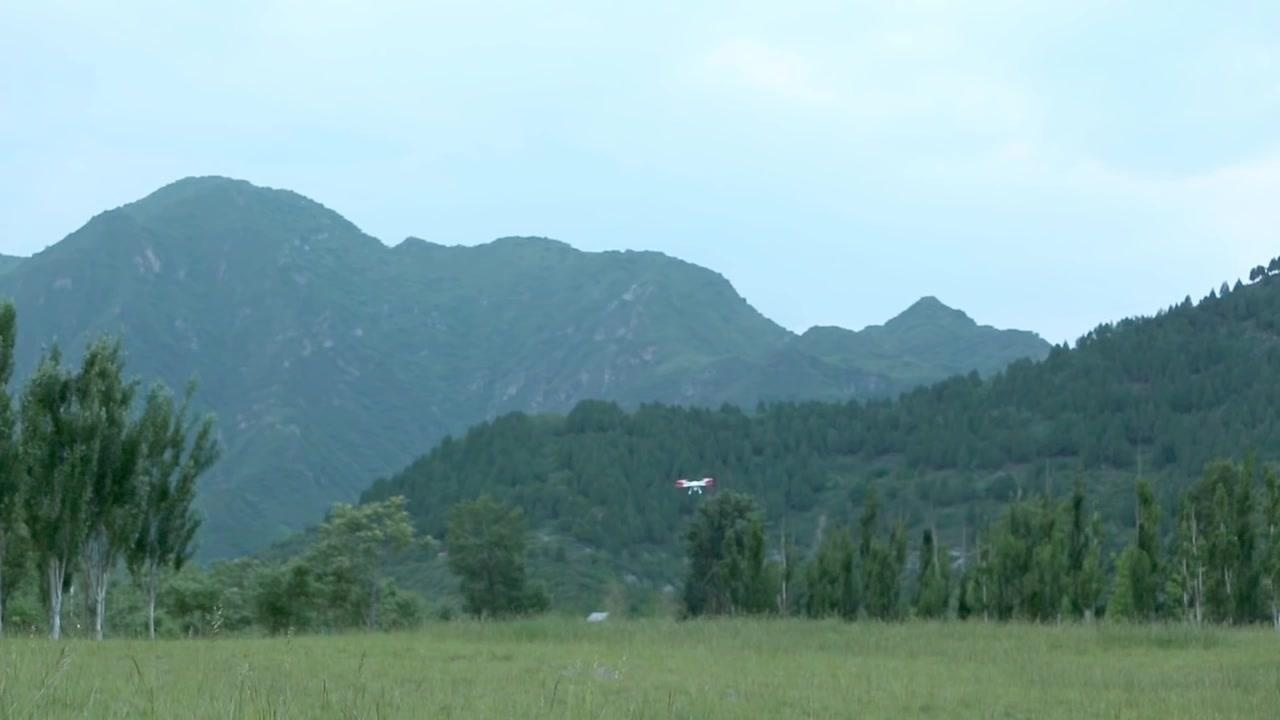UAV: (676, 478, 715, 496)
